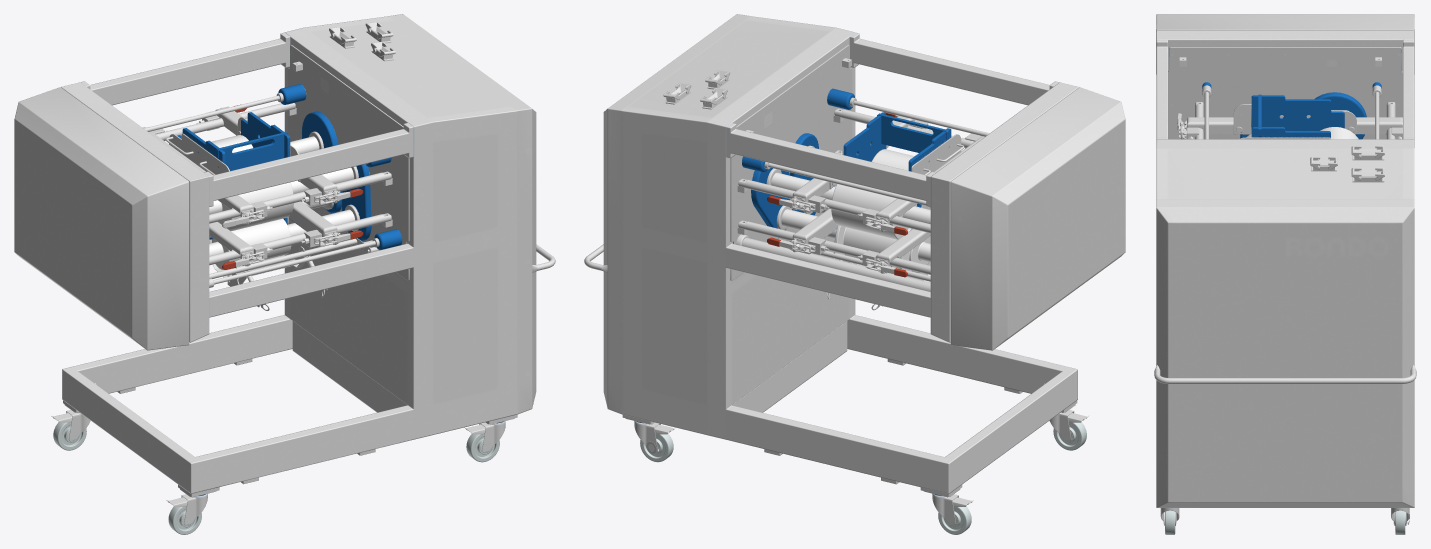
3 renders of one model, left to right at view 1: azimuth 30°, elevation 25°; view 2: azimuth 150°, elevation 25°; view 3: azimuth 270°, elevation 25°, orthographic.
Visible parts, largest first — view 1: housing, core, walze4, walze3, walze1; view 2: housing, core, walze1, walze2; view 3: housing, core.
Part boxes in pixels (x1,y1,x2,y2): housing: (14, 14, 555, 534); core: (142, 84, 402, 310); walze4: (209, 209, 355, 269); walze3: (209, 167, 353, 231); walze1: (211, 135, 319, 153); housing: (584, 14, 1125, 534); core: (736, 88, 989, 310); walze1: (771, 172, 930, 239); walze2: (781, 209, 930, 280); housing: (1154, 14, 1416, 534); core: (1177, 82, 1402, 139).
Bounding box in the file's own units: 2.18 × 1.8 × 1.17.
6 materials, 6 textured.
